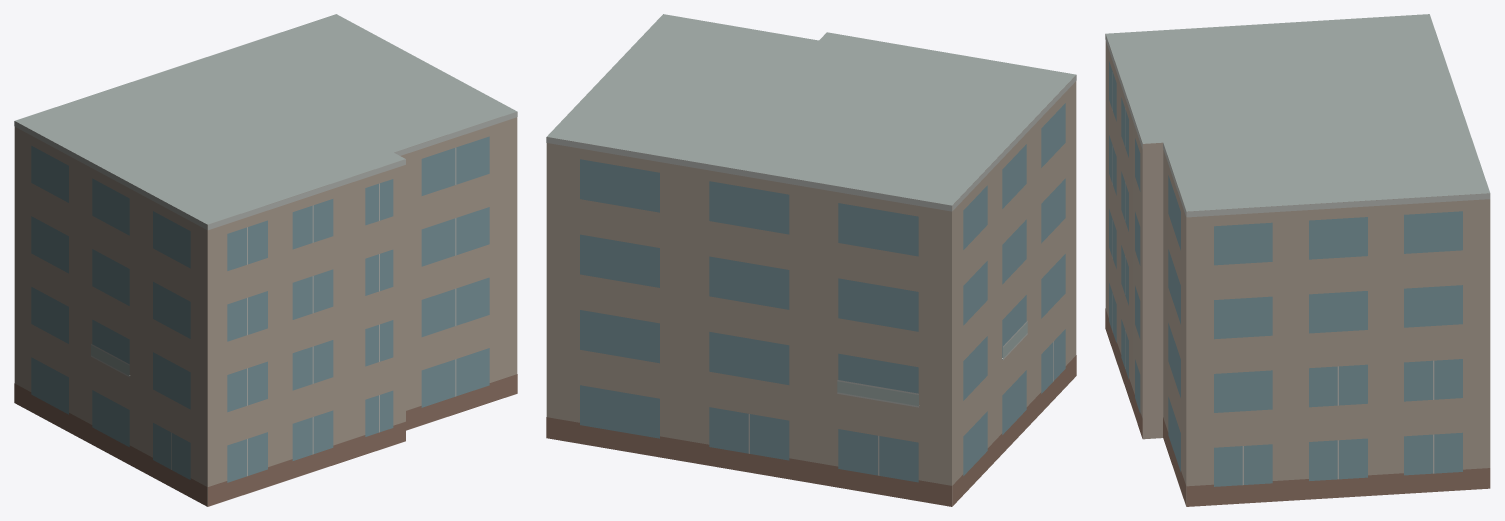
Rendered from residential-b5677dfe-f496-4888-8dae-178938952689.glb.
3 views of the same model, side by side, from view 1: azimuth 30°, elevation 25°; view 2: azimuth 150°, elevation 25°; view 3: azimuth 270°, elevation 25° (orthographic). The views are drawn at different scales.
Visible parts, largest first — view 1: residential-b5677dfe-f496-4888-8dae-178938952689.tmp; view 2: residential-b5677dfe-f496-4888-8dae-178938952689.tmp; view 3: residential-b5677dfe-f496-4888-8dae-178938952689.tmp.
Boxes of the visible parts, <box> form: residential-b5677dfe-f496-4888-8dae-178938952689.tmp: <box>14,14,517,506</box>; residential-b5677dfe-f496-4888-8dae-178938952689.tmp: <box>546,14,1076,506</box>; residential-b5677dfe-f496-4888-8dae-178938952689.tmp: <box>1105,14,1490,506</box>.
Size of the model in its own units: 17.51 by 12.2 by 14.42.
